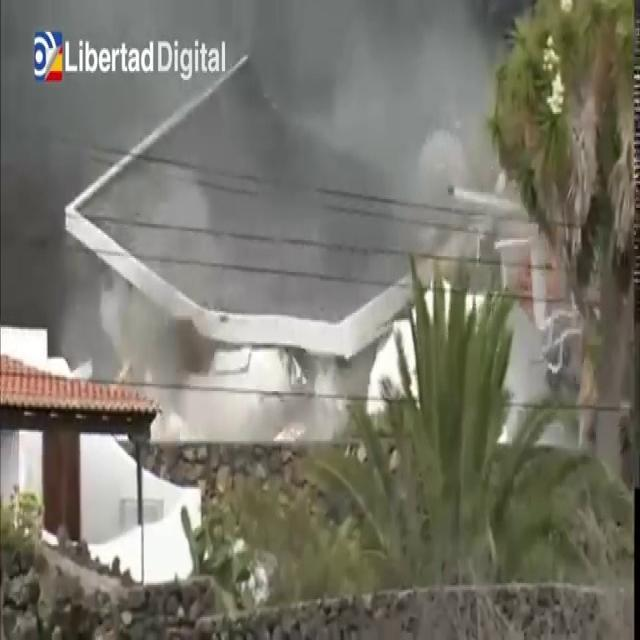Smoke: (4, 0, 510, 391)
